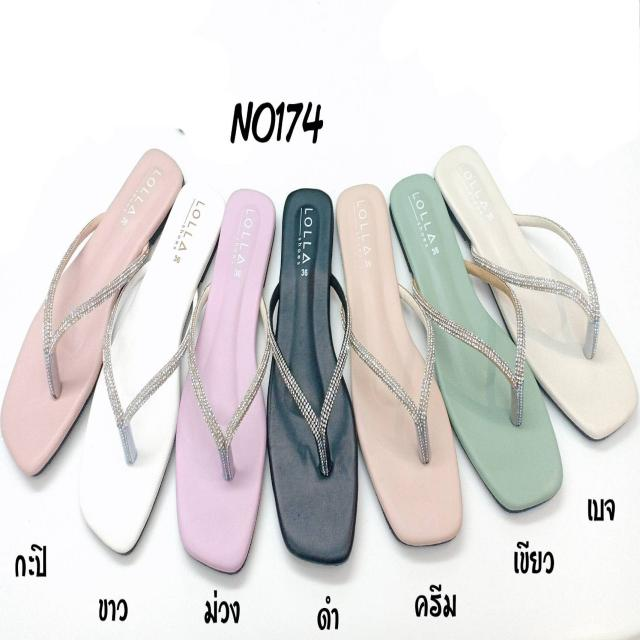bej: (436, 146, 635, 440)
black: (272, 190, 358, 565)
cream: (336, 184, 461, 547)
green: (390, 175, 561, 514)
kapi: (4, 155, 179, 467)
purple: (180, 187, 270, 577)
white: (81, 178, 223, 551)
